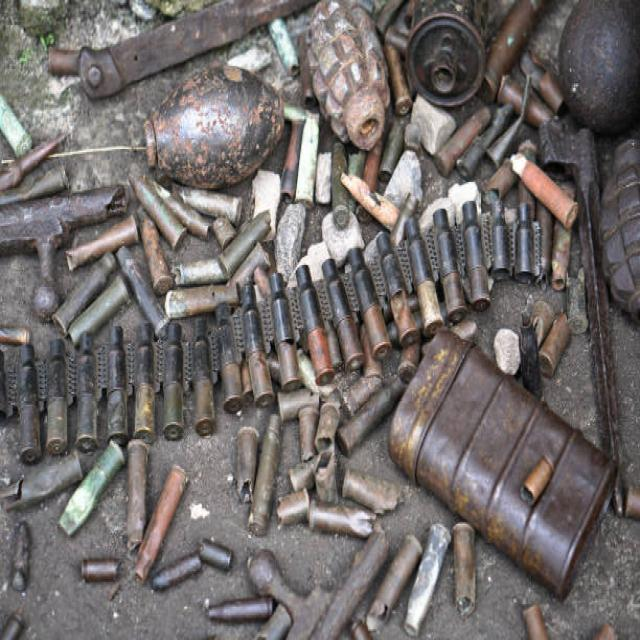grenade: (139, 60, 296, 190), (302, 1, 398, 156)
